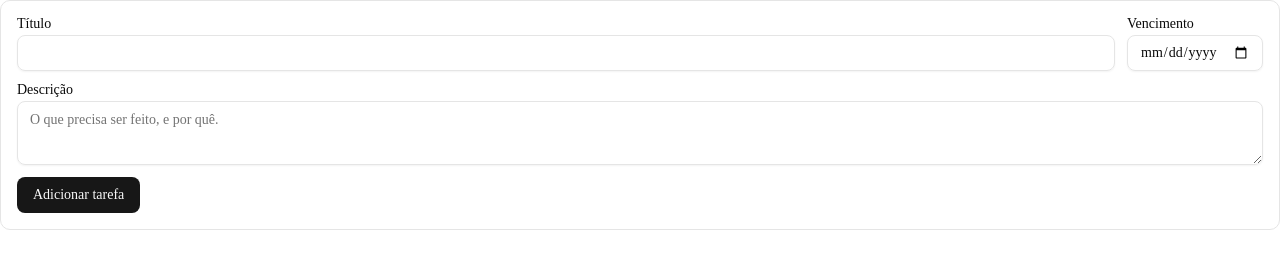
Test: TaskForm › mostra a mensagem que a action devolveu, sem reescrever
This screenshot has width=1280, height=279.
Type "Tarefa qualquer" into the field labelled "Título" at coordinates (566, 53), box [17,35,1115,71]
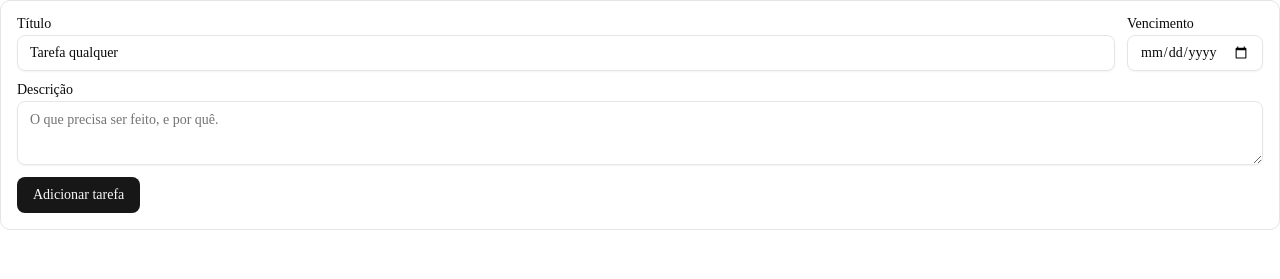
Type "2026-08-05" into the date field labelled "Vencimento" at coordinates (1195, 53), box [1127,35,1263,71]
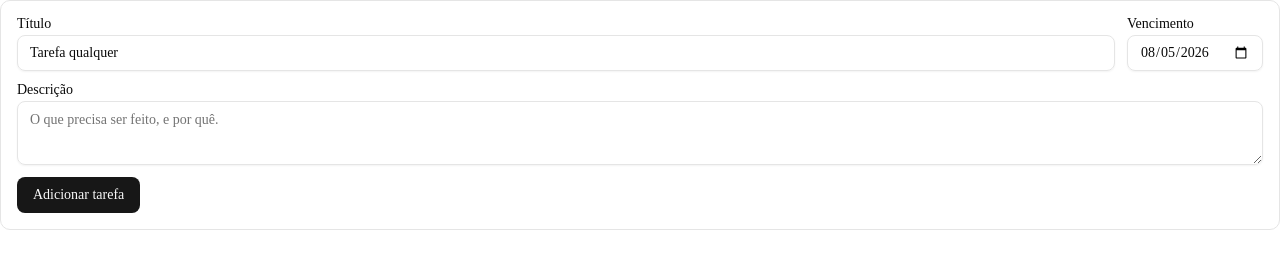
Click the button "Adicionar tarefa" at coordinates (79, 195), box [17,177,140,213]
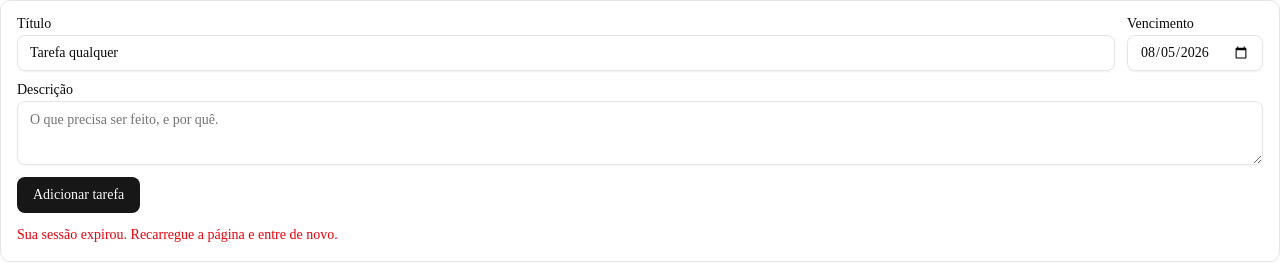
Result: the message reads "Sua sessão expirou. Recarregue a página e entre de novo." at [17,227,338,242]
